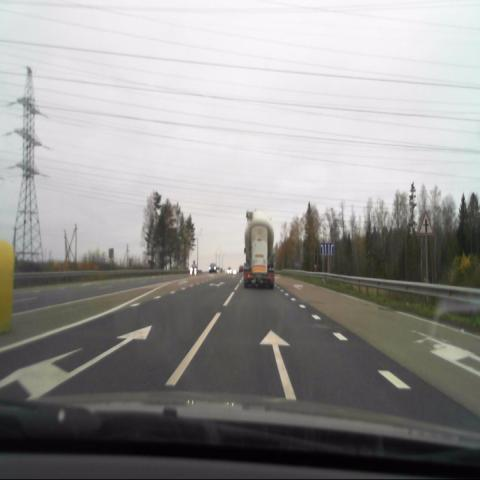2_3: (420, 215, 433, 235)
